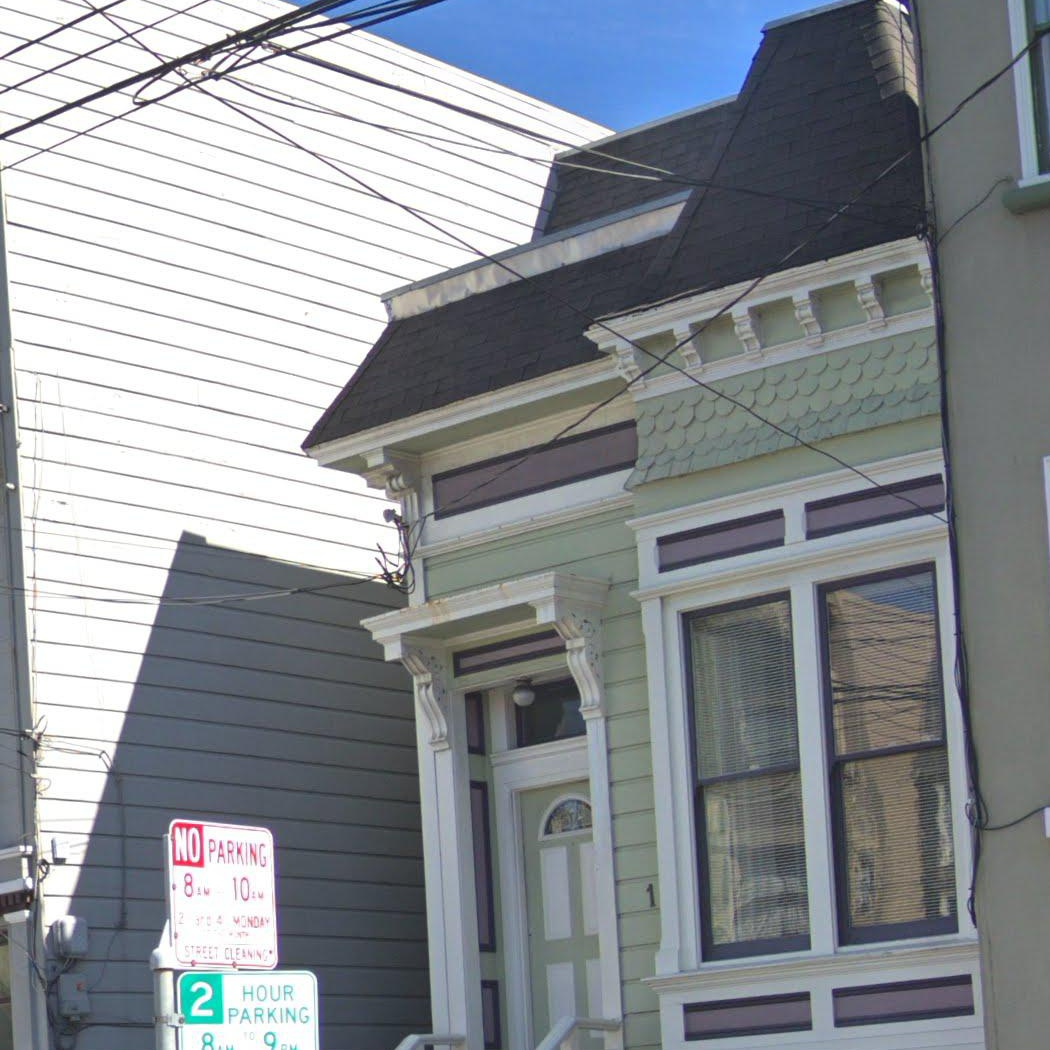2 Hour Parking: (177, 970, 318, 1050)
No Parking: (167, 819, 279, 970)
